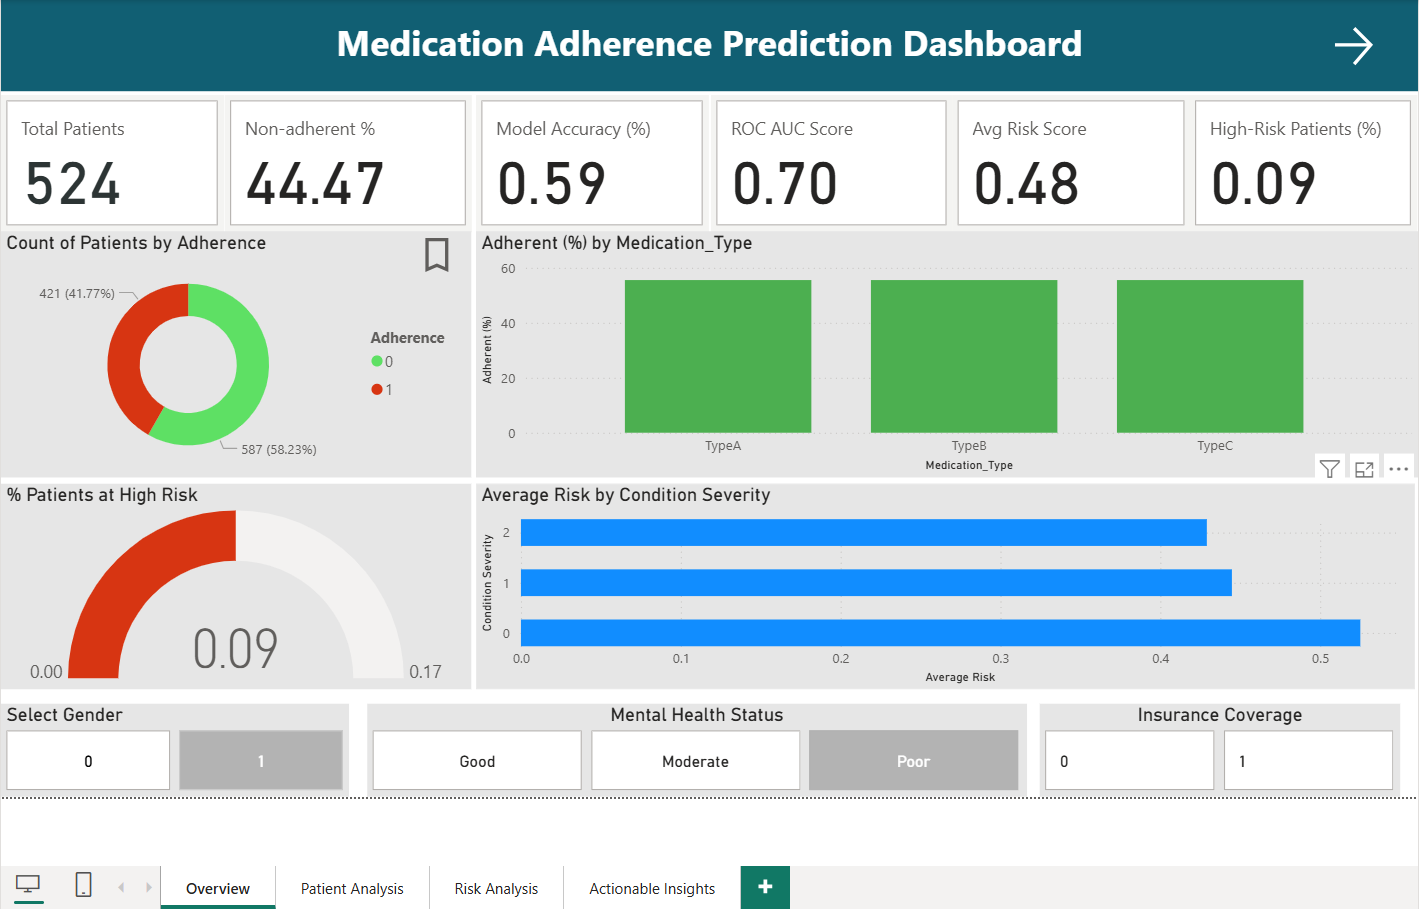

Layout of this report page (visuals, bound fields, positions):
{"tool":"powerbi","page":{"name":"Overview","canvas":[1280,720],"ordinal":0},"visuals":[{"type":"textbox","box":[0,0,1280.3,82.3],"z":0},{"type":"cardVisual","fields":{"Data":["adherence_predictions.Non-adherent"]},"box":[201.9,86.2,223.5,123.9],"z":1000},{"type":"cardVisual","fields":{"Data":["adherence_predictions.Model Accuracy (%)"]},"box":[429.5,86.2,210,123.9],"z":2000},{"type":"cardVisual","fields":{"Data":["adherence_predictions.ROC AUC Score"]},"box":[640.8,86.2,218.1,123.9],"z":3000},{"type":"cardVisual","fields":{"Data":["adherence_predictions.Avg Risk Score"]},"box":[858.9,86.2,215.4,123.9],"z":4000},{"type":"cardVisual","fields":{"Data":["adherence_predictions.High-Risk Patients (%)"]},"box":[1074.3,86.2,206,123.9],"z":5000},{"type":"cardVisual","fields":{"Data":["adherence_predictions.Total_Patients"]},"box":[0,86.2,201.9,123.9],"z":6000},{"type":"clusteredColumnChart","fields":{"Category":["patient_adherence.Medication_Type"],"Y":["adherence_predictions.Adherent (%)"]},"box":[429.1,209.4,850.9,222],"z":7000},{"type":"donutChart","fields":{"Category":["patient_adherence.Adherence"],"Y":["CountNonNull(patient_adherence.Age)"]},"box":[0,209.4,424.7,222],"z":8000},{"type":"gauge","fields":{"Y":["adherence_predictions.High_Risk_Patients"]},"box":[0,436.5,424.7,185.8],"z":9000},{"type":"clusteredBarChart","fields":{"Category":["adherence_predictions.Condition_Severity"],"Y":["Avg(adherence_predictions.Predicted_Probability)"]},"box":[429.1,436.5,847.9,185.8],"z":10000},{"type":"advancedSlicerVisual","fields":{"Values":["adherence_predictions.Gender"]},"box":[0,635.6,314.1,84.1],"z":11000},{"type":"advancedSlicerVisual","title":"Insurance Coverage","fields":{"Values":["patient_adherence.Insurance_Coverage"]},"box":[937.9,635.6,325.9,84.1],"z":12000},{"type":"advancedSlicerVisual","fields":{"Values":["patient_adherence.Mental_Health_Status"]},"box":[330.3,635.6,595.8,84.1],"z":13000},{"type":"actionButton","box":[374.3,210.4,49.8,40.2],"z":13001},{"type":"actionButton","box":[1161.5,19.3,118.9,45],"z":13002}]}

Visuals, with their boxes on the page's 1280x720 design canvas (x1, y1, x2, y2). These are canvas units, not pixel positions in the 1419x909 screenshot, which may show the page scaled, cropped or inside an application window:
textbox: (left=0, top=0, right=1280, bottom=82)
cardVisual - adherence_predictions.Non-adherent: (left=202, top=86, right=425, bottom=210)
cardVisual - adherence_predictions.Model Accuracy (%): (left=430, top=86, right=640, bottom=210)
cardVisual - adherence_predictions.ROC AUC Score: (left=641, top=86, right=859, bottom=210)
cardVisual - adherence_predictions.Avg Risk Score: (left=859, top=86, right=1074, bottom=210)
cardVisual - adherence_predictions.High-Risk Patients (%): (left=1074, top=86, right=1280, bottom=210)
cardVisual - adherence_predictions.Total_Patients: (left=0, top=86, right=202, bottom=210)
clusteredColumnChart - patient_adherence.Medication_Type x adherence_predictions.Adherent (%): (left=429, top=209, right=1280, bottom=431)
donutChart - patient_adherence.Adherence x CountNonNull(patient_adherence.Age): (left=0, top=209, right=425, bottom=431)
gauge - adherence_predictions.High_Risk_Patients: (left=0, top=436, right=425, bottom=622)
clusteredBarChart - adherence_predictions.Condition_Severity x Avg(adherence_predictions.Predicted_Probability): (left=429, top=436, right=1277, bottom=622)
advancedSlicerVisual - adherence_predictions.Gender: (left=0, top=636, right=314, bottom=720)
"Insurance Coverage" advancedSlicerVisual: (left=938, top=636, right=1264, bottom=720)
advancedSlicerVisual - patient_adherence.Mental_Health_Status: (left=330, top=636, right=926, bottom=720)
actionButton: (left=374, top=210, right=424, bottom=251)
actionButton: (left=1162, top=19, right=1280, bottom=64)
